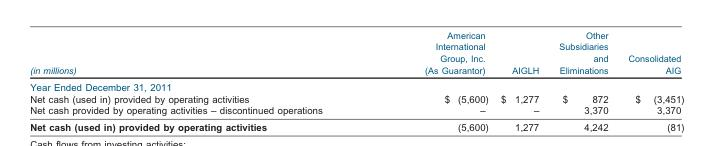table: (29, 29, 683, 115)
table column: (29, 29, 372, 115), (372, 29, 493, 115), (548, 29, 617, 115), (617, 29, 683, 115), (493, 29, 548, 115)
table column header: (29, 29, 683, 77)
table projected row header: (29, 77, 683, 92)
table row: (29, 29, 683, 77), (29, 77, 683, 92), (29, 92, 683, 104), (29, 104, 683, 115)
